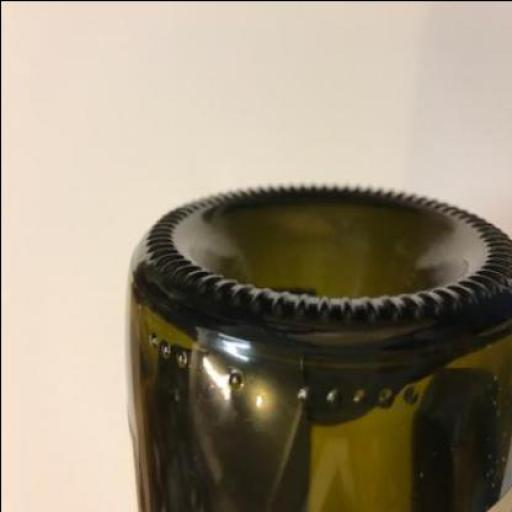glass: (125, 183, 511, 510)
